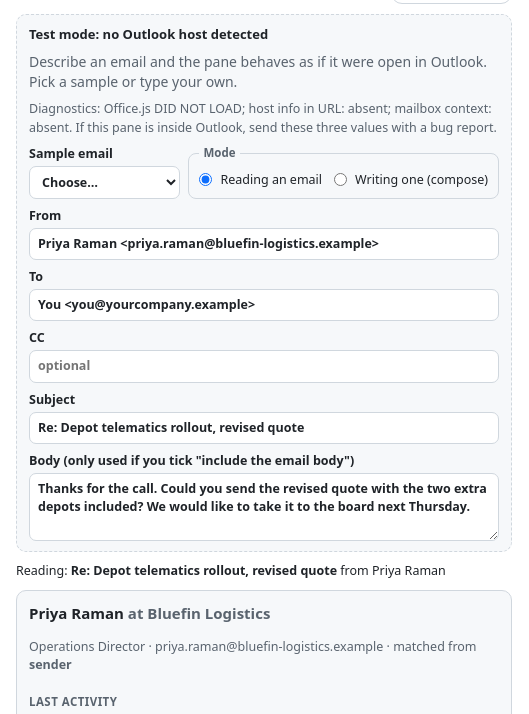
browser test mode › switching to the unknown-sender sample offers to create a contact at the guessed company
The image size is (529, 714).
Expected: the heading "Priya Raman at Bluefin Logistics" is shown, [29,603,270,623]
Select "Unknown sender at a known company (new person at Granite Peak)" in the dropdown labelled "Sample email". click: coordinates (105, 182)
box: [29,166,180,199]
(page scrolled)
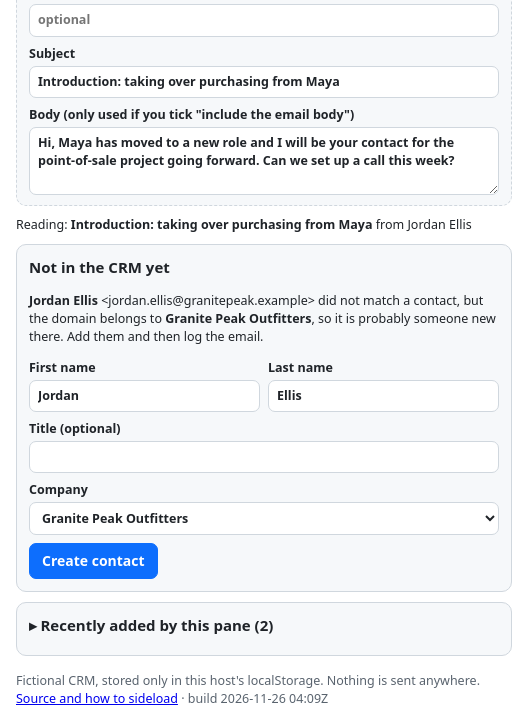
Result: the heading "Not in the CRM yet" is shown at [29,257,170,277]
Result: the text "the domain belongs to" shows "Granite Peak Outfitters" at [165,310,312,327]
Result: the dropdown labelled "Company" shows "Granite Peak Outfitters" at [29,502,499,535]
Click the button "Create contact". click: coordinates (93, 561)
box: [29,543,158,580]
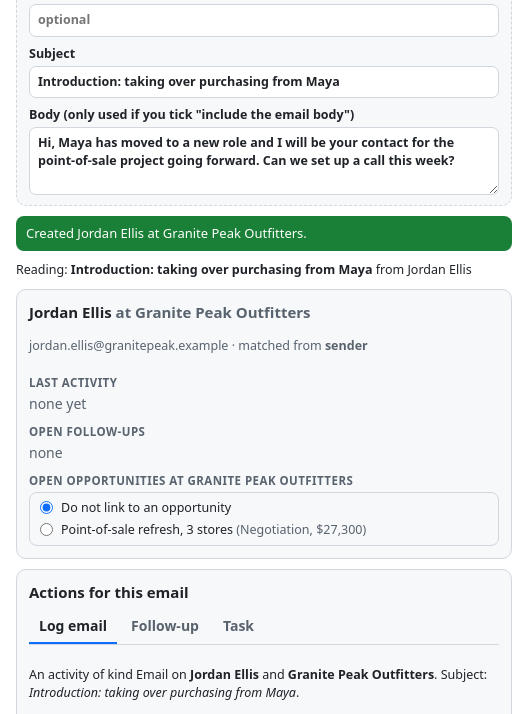
Result: the heading "Jordan Ellis at Granite Peak Outfitters" is shown at [29,302,311,322]
